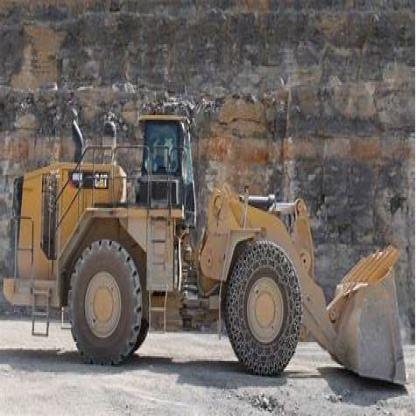bull_dozer/loader/grader: (4, 104, 415, 400)
